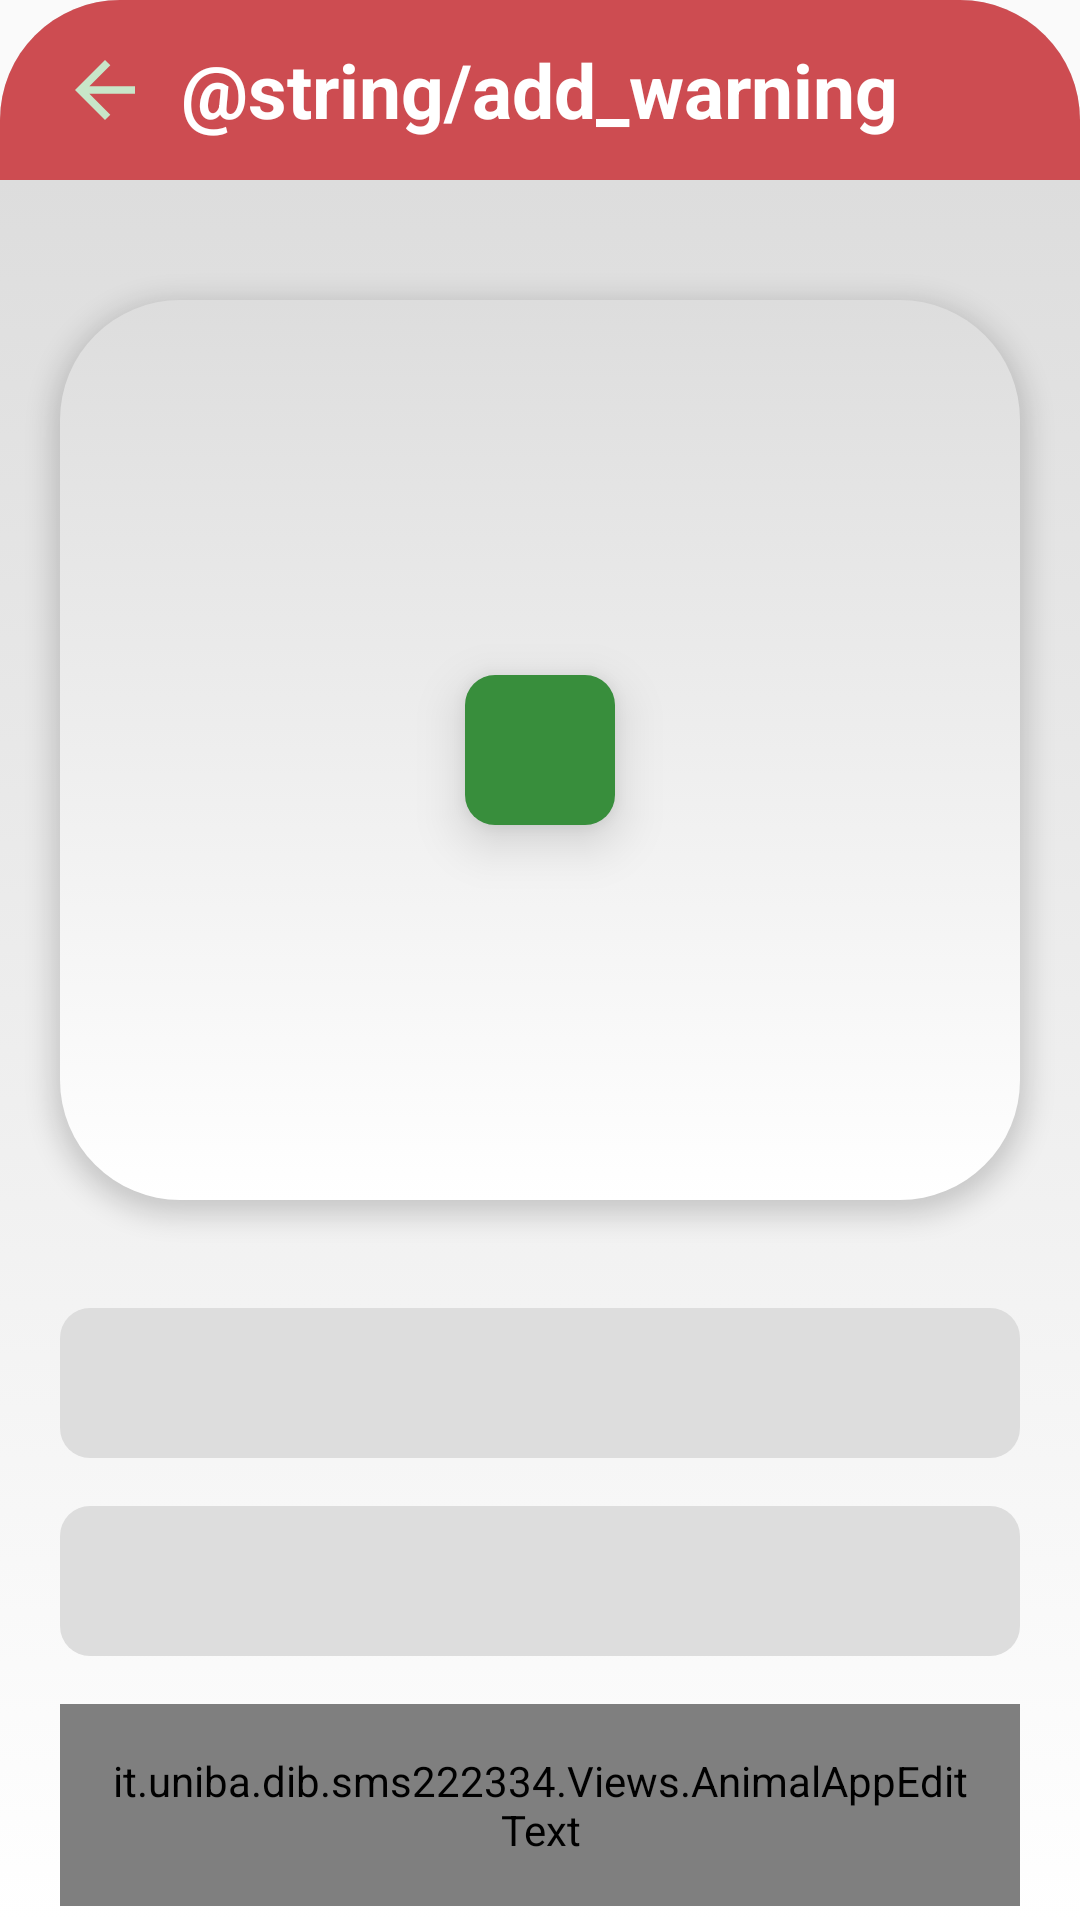

Locate icon controls on the screen. Image size 1080px x 1920px, boxes as box=[x1, y1, x2, y2].
arrow back: box=[75, 60, 135, 120]
